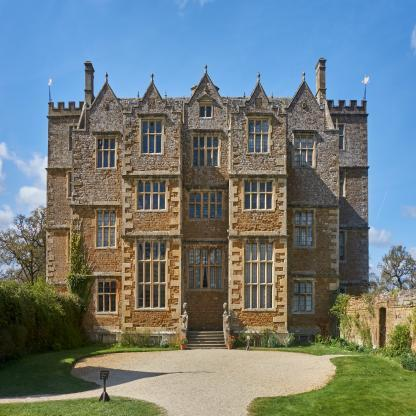Building Outline: (44, 58, 371, 346)
Corner Stone: (229, 114, 243, 330), (273, 115, 287, 331), (169, 114, 181, 332), (123, 113, 133, 331), (329, 131, 340, 294), (46, 118, 54, 283), (361, 117, 368, 284), (71, 133, 81, 230)
Cornice: (196, 93, 215, 101), (291, 129, 317, 133), (91, 131, 120, 134), (137, 113, 166, 116)
Dont: (0, 231, 93, 368), (328, 290, 416, 368)
Facade: (49, 109, 367, 332)
Floor: (123, 175, 287, 233), (123, 127, 287, 173), (287, 129, 339, 198), (72, 129, 123, 198), (71, 202, 123, 268), (287, 202, 339, 268), (339, 168, 368, 224), (340, 229, 369, 278), (47, 168, 72, 224), (339, 115, 367, 164), (46, 229, 72, 278), (48, 115, 71, 164), (184, 124, 228, 127)
Floor Slab: (123, 173, 287, 176), (123, 233, 287, 235), (71, 268, 123, 272), (287, 268, 339, 272), (340, 277, 369, 281), (340, 225, 369, 229), (339, 164, 368, 168), (46, 277, 72, 281), (46, 225, 72, 229), (48, 164, 72, 168)
Ground Floor: (123, 235, 287, 333), (71, 271, 123, 333), (287, 271, 339, 333), (340, 281, 369, 330), (46, 281, 72, 330)
Top Floor: (184, 102, 228, 124)
Window: (136, 240, 167, 309), (244, 241, 274, 310), (188, 249, 222, 289), (189, 192, 223, 218), (137, 180, 166, 210), (244, 180, 273, 210), (192, 134, 219, 166), (295, 210, 315, 248), (96, 211, 116, 248), (248, 118, 269, 153), (141, 119, 162, 153), (295, 135, 315, 167), (294, 280, 313, 313), (96, 137, 115, 168), (97, 281, 116, 312), (334, 231, 345, 261), (68, 232, 79, 262), (333, 171, 345, 196), (68, 172, 80, 197), (69, 126, 81, 151), (333, 125, 344, 150), (199, 104, 212, 118)
object: (287, 198, 339, 202), (72, 198, 123, 202)
